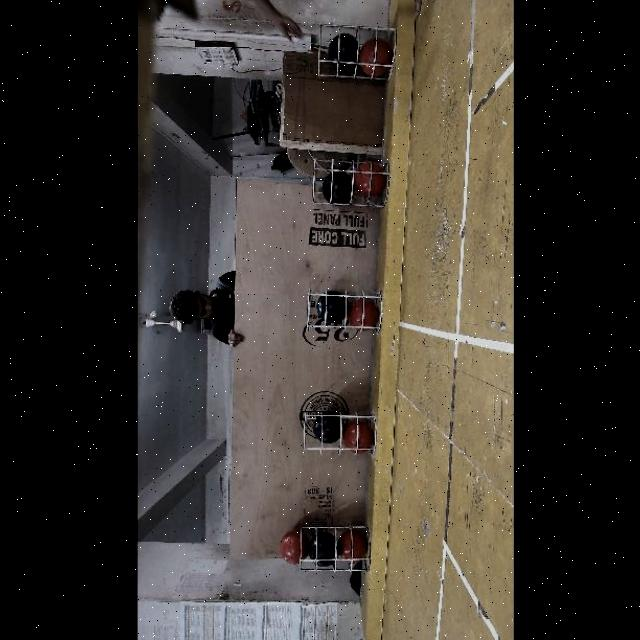P: (325, 34, 357, 70), (322, 170, 350, 203), (316, 292, 344, 324), (308, 533, 336, 565), (314, 415, 341, 443)
R: (356, 41, 389, 79), (337, 420, 371, 452), (279, 529, 307, 564), (353, 162, 382, 195), (346, 300, 376, 330), (338, 530, 366, 562)
S: (318, 17, 400, 85), (306, 152, 389, 208), (304, 286, 386, 338), (292, 520, 368, 576), (294, 411, 374, 462)
